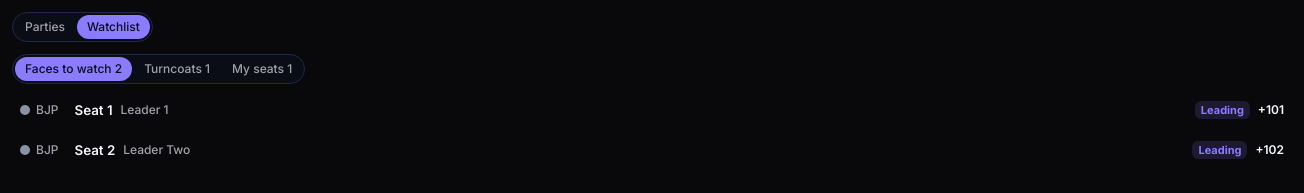
it: Watchlist tab: one sub-tab per manifest watchlist, then My seats › a manifest list is read-only (no remove, no add-seat); My seats keeps add and remove
Expected: the button "Add" is not shown
Click the radio button labelled "My seats 1" at (262, 69), box [222,57,302,81]
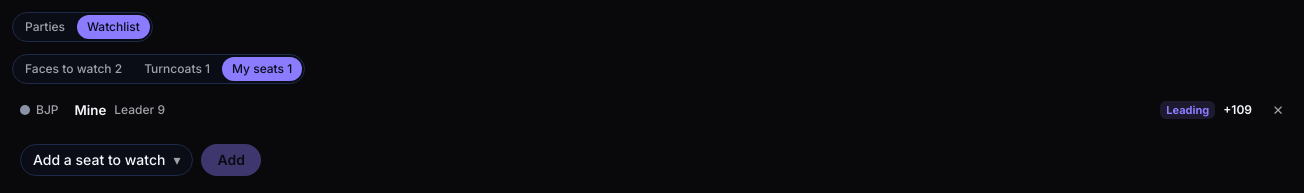
Result: the button named "Remove Mine" is shown at [1264,96,1292,124]
Result: the button "Add" is shown at [201,144,261,176]
